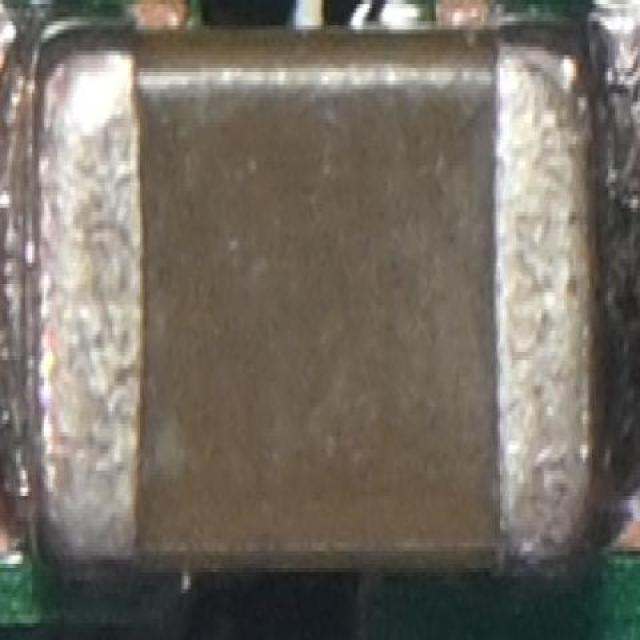Capacitor: (36, 37, 588, 568)
